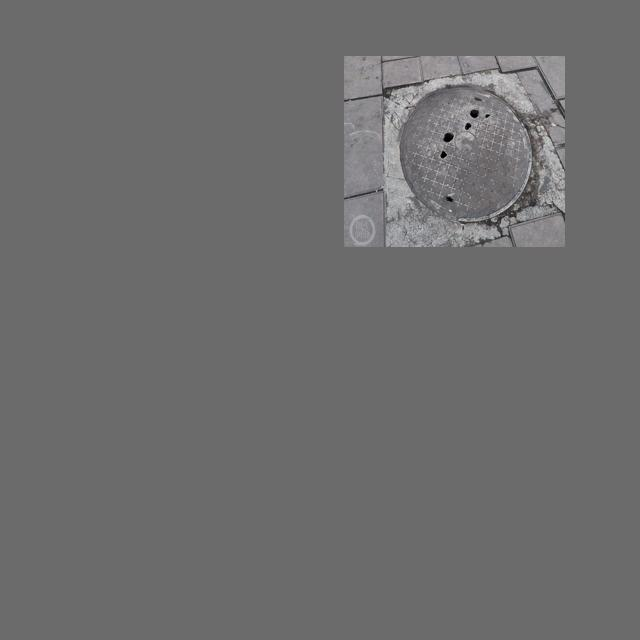circle: (378, 67, 560, 242)
